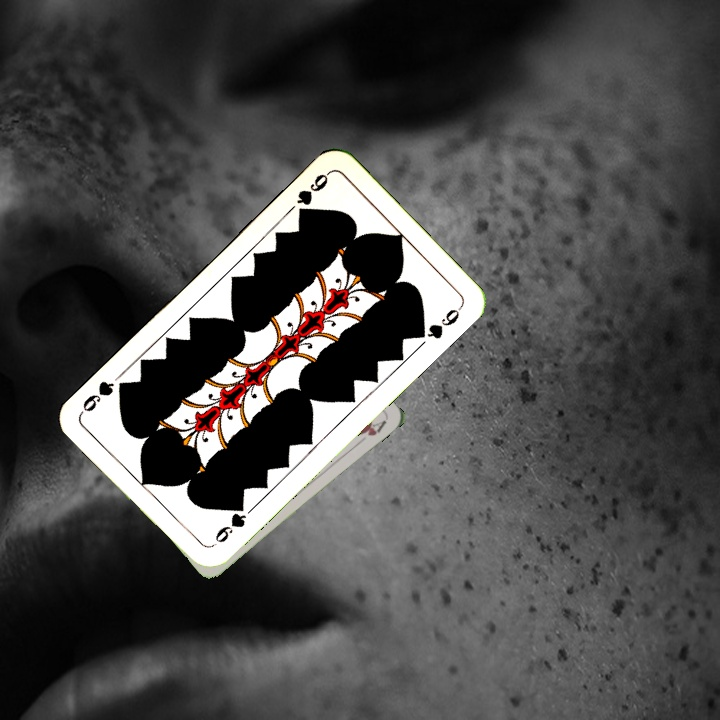G9: (292, 167, 333, 220), (208, 498, 250, 549)
